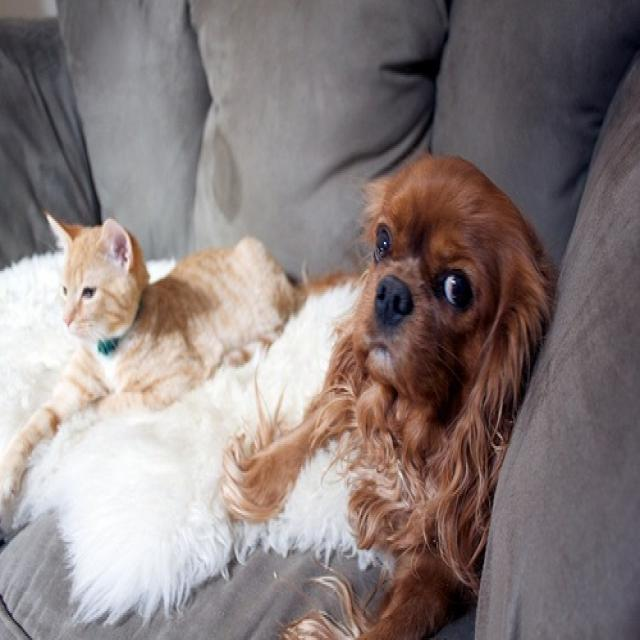dog: (7, 144, 550, 629)
